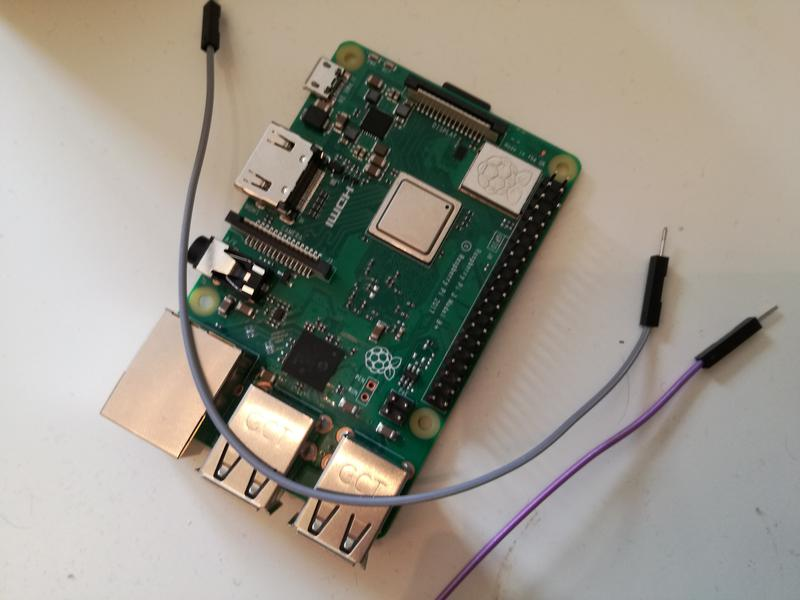Raspberry_Pi_3: (92, 39, 595, 571)
